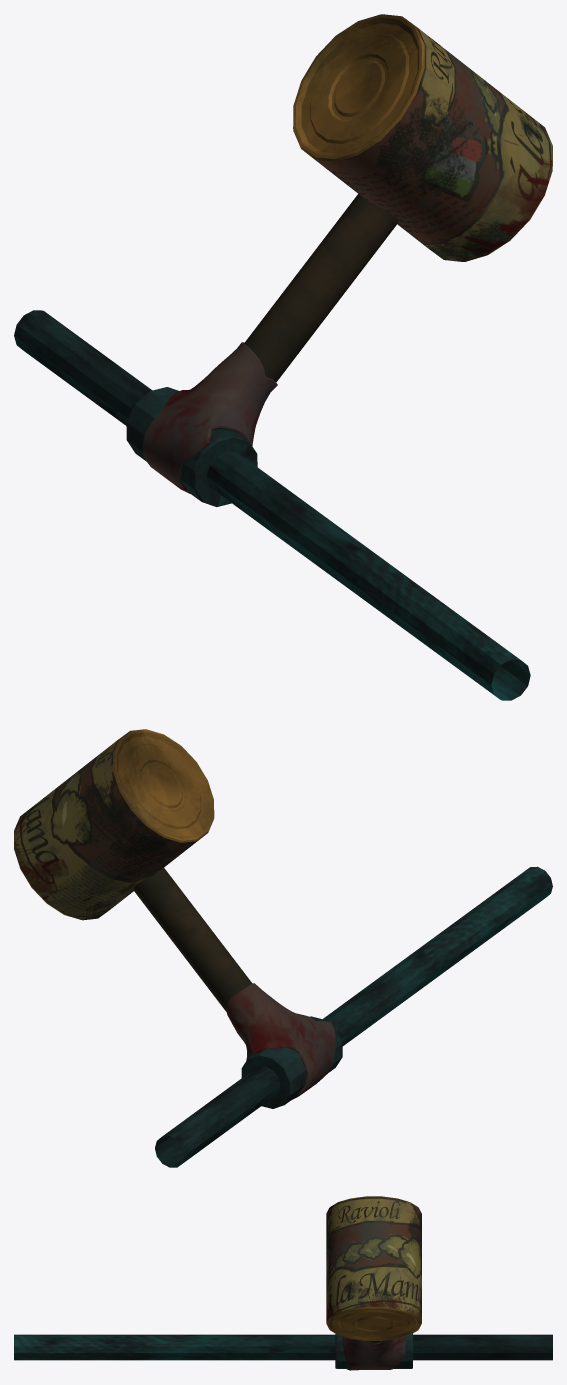
The model's file is MDL_Arena_HammerNew_3.fbx.
The picture shows the model from 3 angles, top to bottom: view 1: azimuth 30°, elevation 25°; view 2: azimuth 150°, elevation 25°; view 3: azimuth 270°, elevation 25°; orthographic projection. The views are drawn at different scales.
Parts seen in each view (by area): view 1: Cylinder.002; view 2: Cylinder.002; view 3: Cylinder.002.
Boxes of the visible parts, x1,y1,x2,y2 form: Cylinder.002: [14, 14, 552, 700]; Cylinder.002: [14, 729, 552, 1167]; Cylinder.002: [14, 1196, 552, 1370].
Size of the model in its own units: 56.2 by 57.54 by 122.
